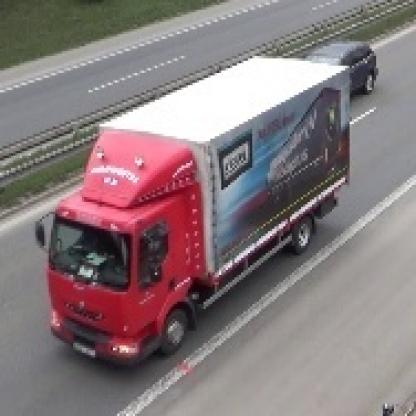truck: (32, 52, 348, 368)
